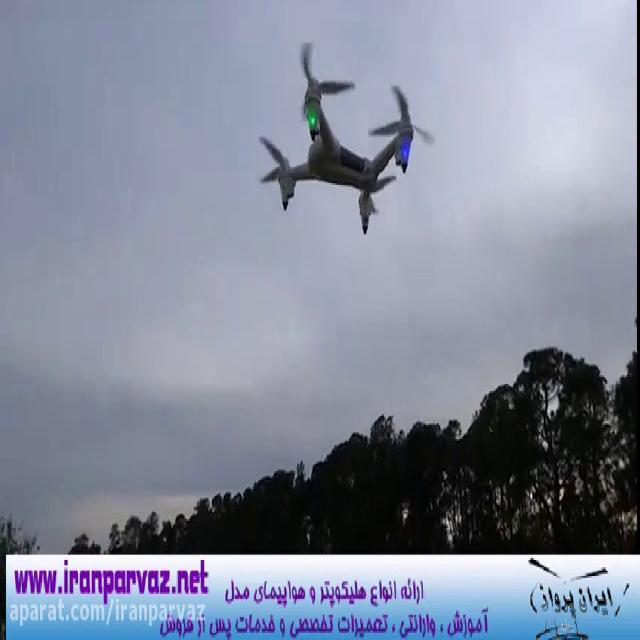drone: (256, 34, 436, 236)
